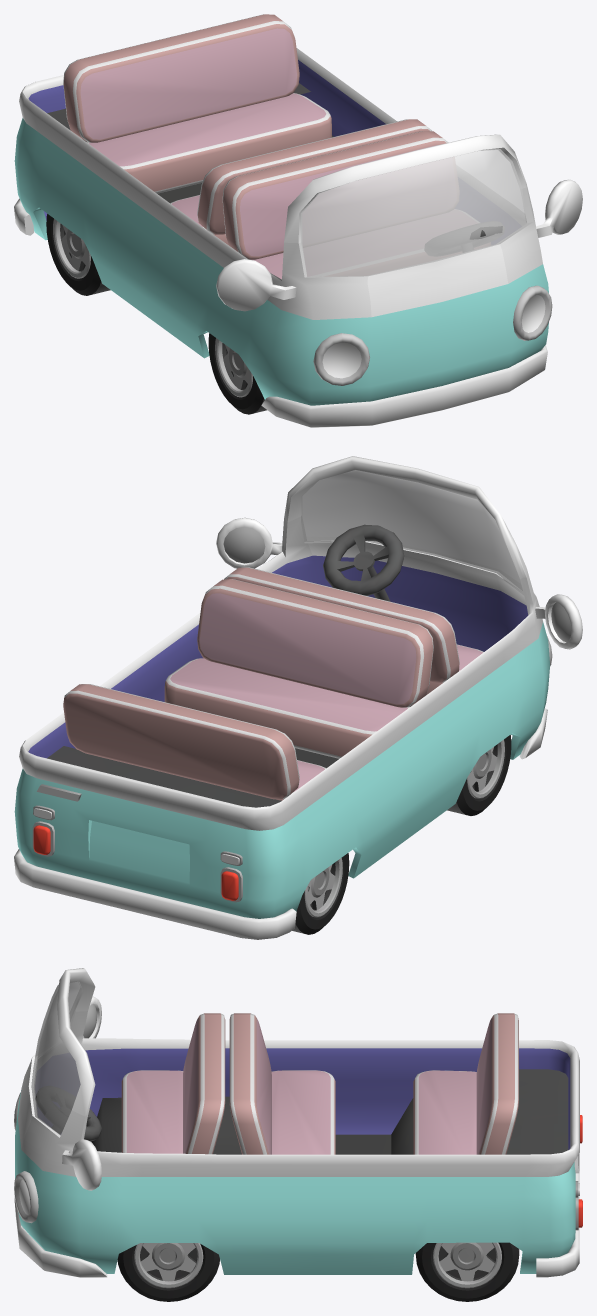
File: Van.fbx
The picture shows the model from 3 angles, top to bottom: view 1: azimuth 30°, elevation 25°; view 2: azimuth 150°, elevation 25°; view 3: azimuth 270°, elevation 25°; orthographic projection. The views are drawn at different scales.
Parts seen in each view (by area): view 1: van_body, wheel3, wheel1; view 2: van_body, wheel3, wheel1; view 3: van_body, wheel4, wheel2.
Part boxes in pixels (x1=…): van_body: x1=14, y1=14, x2=582, y2=427; wheel3: x1=46, y1=214, x2=110, y2=295; wheel1: x1=208, y1=333, x2=266, y2=414; van_body: x1=14, y1=456, x2=582, y2=939; wheel3: x1=292, y1=853, x2=349, y2=934; wheel1: x1=447, y1=735, x2=511, y2=815; van_body: x1=14, y1=968, x2=582, y2=1277; wheel4: x1=415, y1=1242, x2=519, y2=1301; wheel2: x1=117, y1=1243, x2=219, y2=1301.
Bounding box in the file's own units: 3.09 × 2.21 × 4.54.
